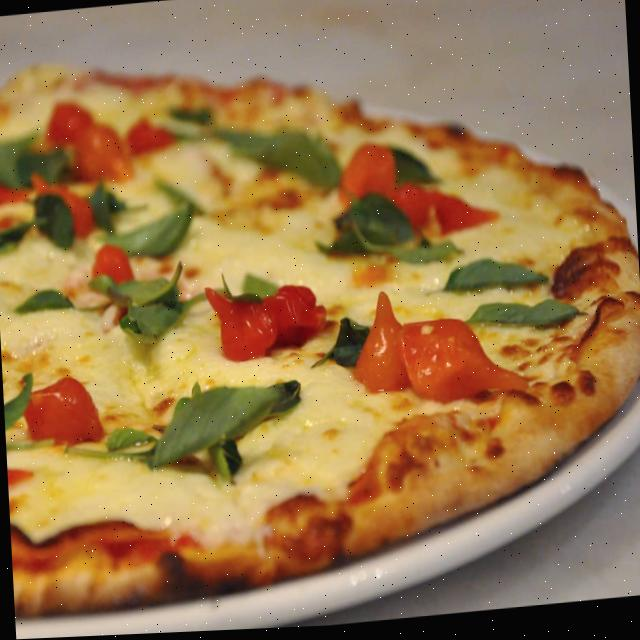basil: (144, 382, 304, 469), (215, 121, 342, 201), (90, 262, 208, 348), (104, 206, 194, 262), (334, 193, 414, 254), (443, 258, 549, 299), (467, 301, 580, 339), (0, 131, 70, 190), (312, 320, 370, 373), (34, 193, 75, 251), (88, 181, 127, 235), (158, 107, 214, 144), (384, 244, 462, 270), (2, 375, 36, 433), (14, 288, 74, 314), (210, 440, 243, 485), (316, 231, 368, 259), (222, 273, 262, 309), (106, 427, 156, 454), (242, 273, 278, 302), (0, 221, 35, 248), (190, 383, 202, 398)
pizza: (0, 16, 640, 618)
tomatoes: (351, 284, 528, 415), (204, 280, 328, 366), (46, 98, 132, 189), (23, 375, 104, 450), (32, 170, 95, 243), (339, 145, 397, 204), (431, 191, 498, 238), (46, 102, 94, 147), (126, 117, 177, 157), (90, 243, 134, 288)
